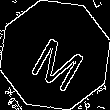M_NE: (22, 22, 88, 88)
